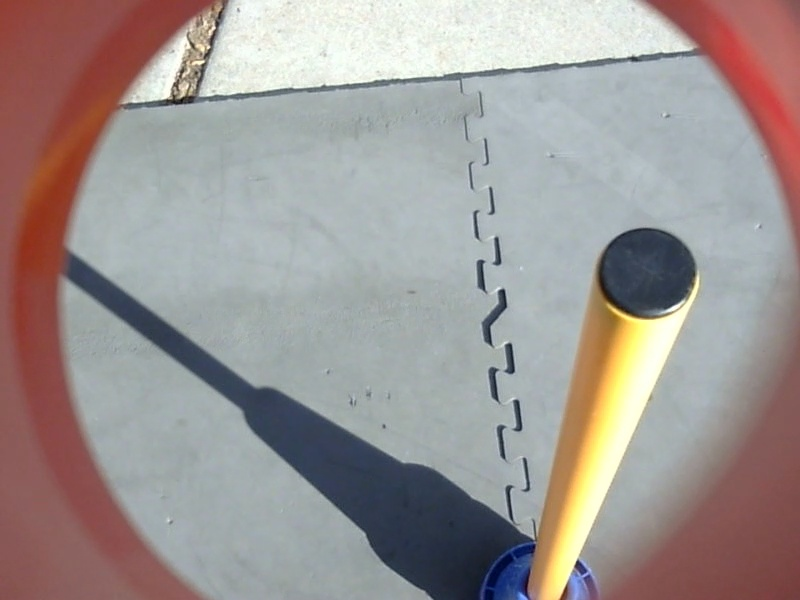tip: (589, 222, 708, 329)
